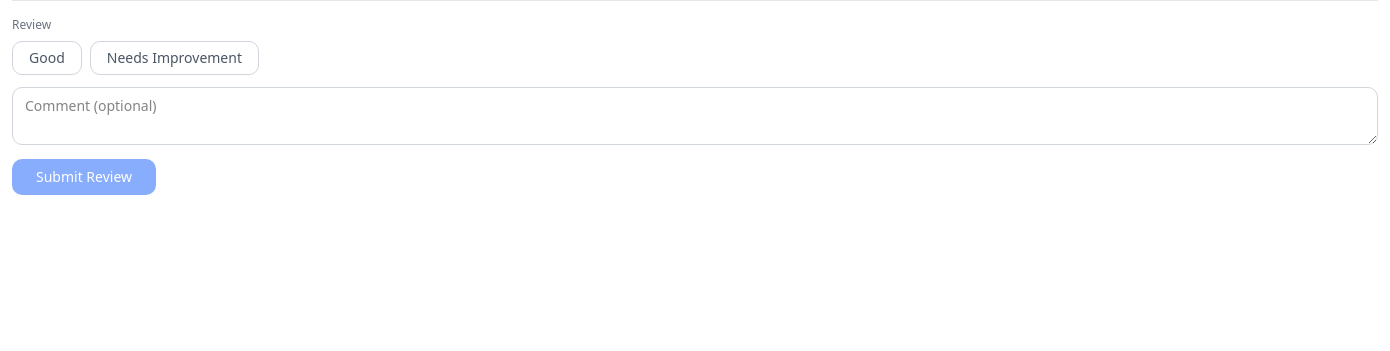
Scenario: shows retry guidance for a persisted review whose embedding failed
Click the button "Needs Improvement". click: [174, 58]
box: x1=90 y1=41 x2=259 y2=75
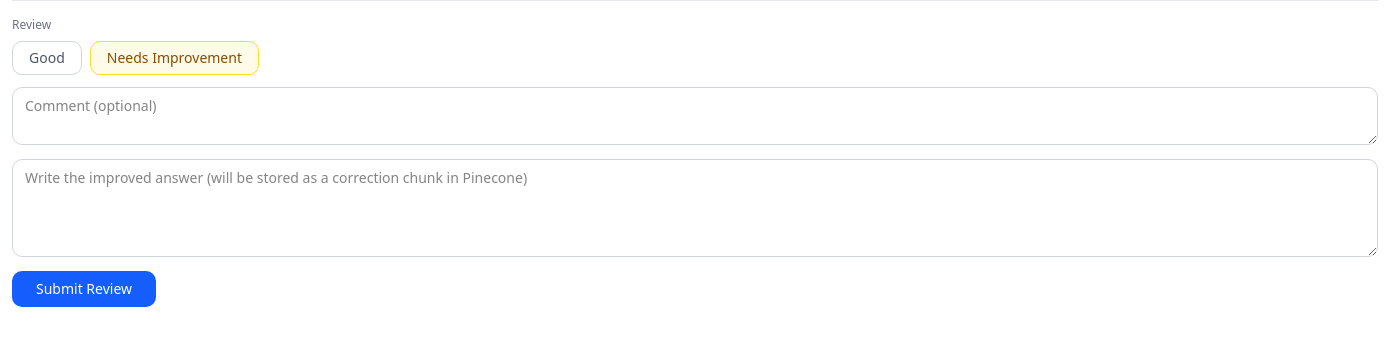
Replace the text in the text box labelled "improved answer" with "Corrected". click: [695, 208]
box: x1=12 y1=159 x2=1378 y2=257
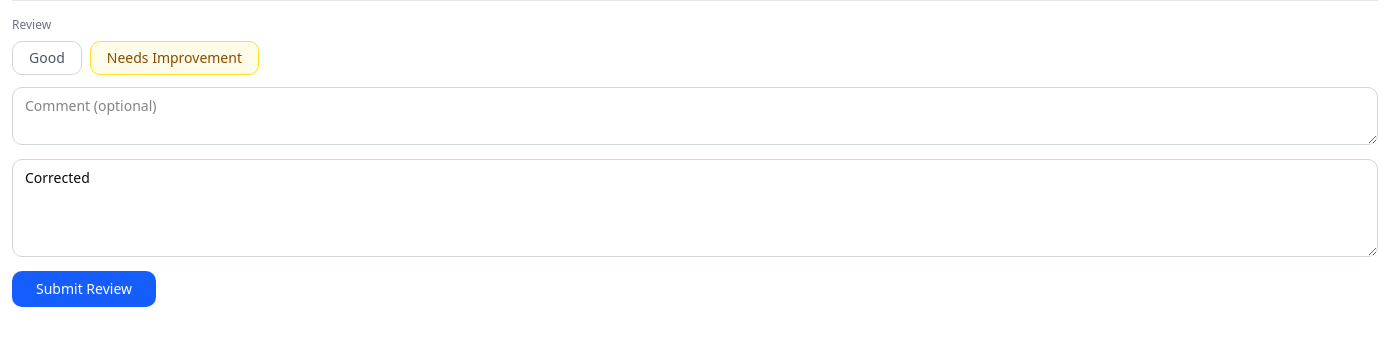
Click the button "Submit Review". click: [84, 289]
box: x1=12 y1=271 x2=156 y2=307
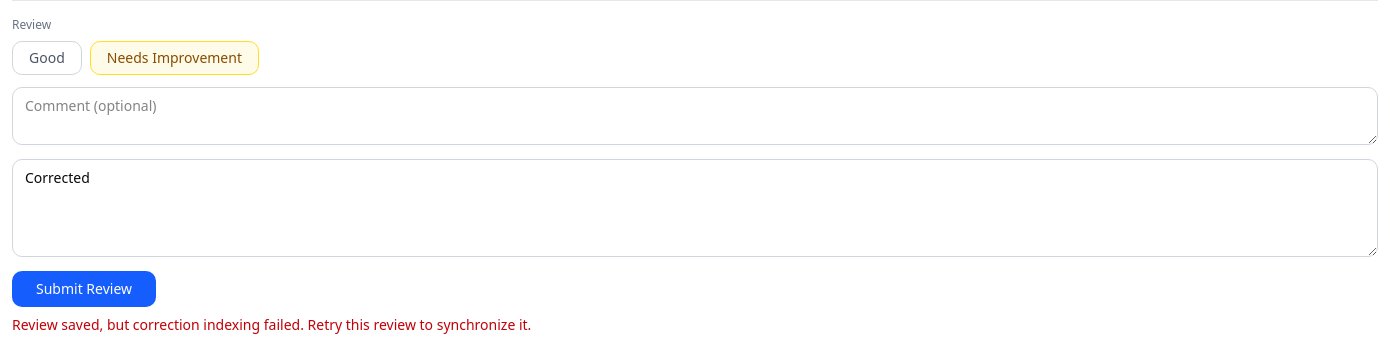
Check: the message shows "Retry this review", box x1=12 y1=315 x2=531 y2=334
